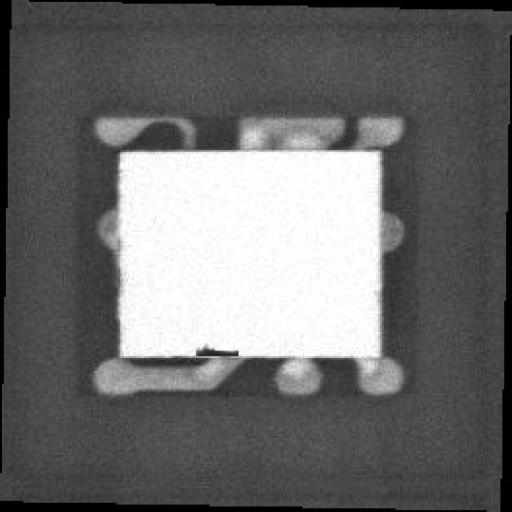DIE_BROKEN: (190, 340, 239, 356)
